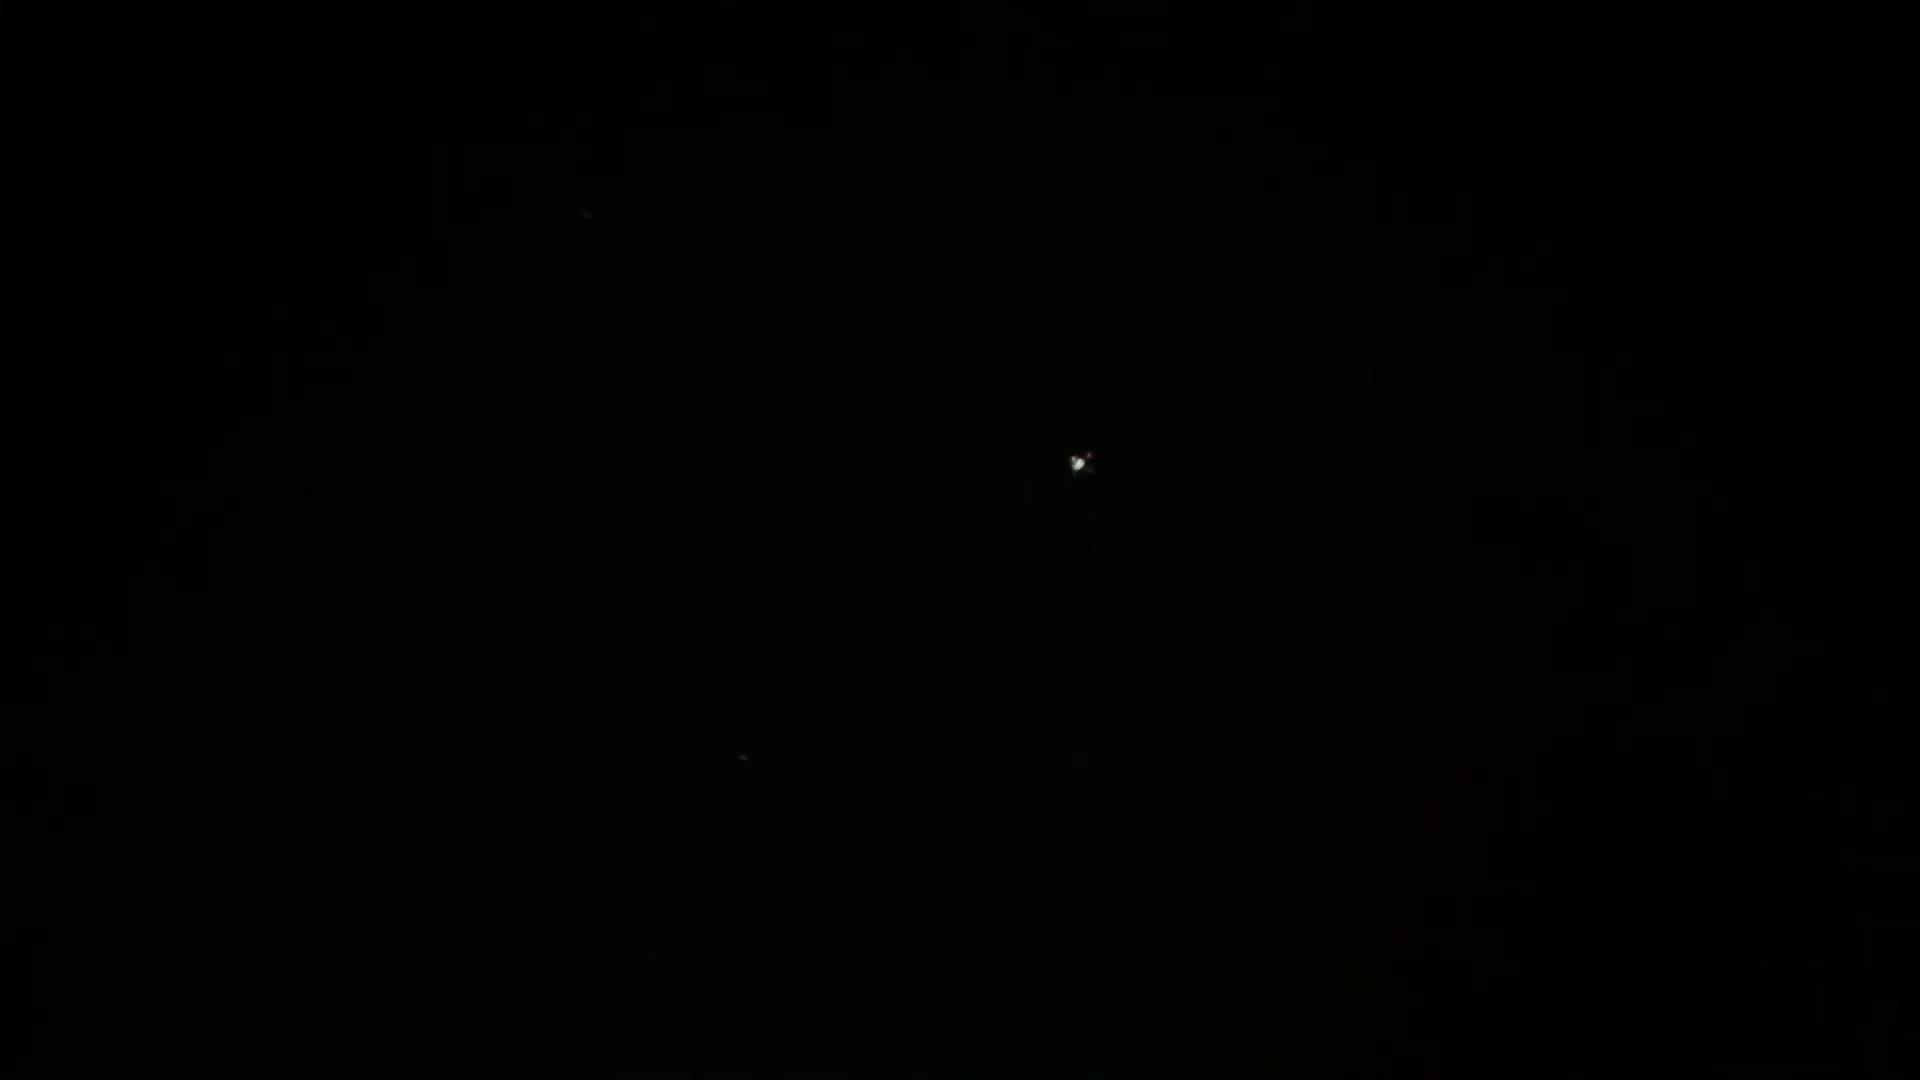Plane: (1058, 429, 1110, 516)
